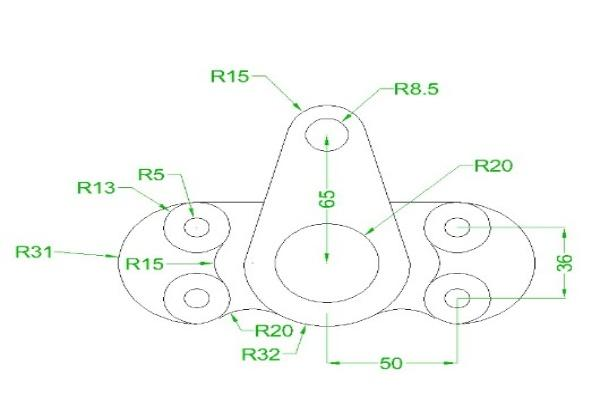dimensions: (391, 74, 443, 102), (470, 150, 518, 180), (255, 319, 295, 344), (209, 64, 251, 86), (74, 178, 120, 198), (12, 242, 56, 262), (123, 254, 164, 275), (240, 346, 283, 366), (132, 162, 168, 185), (315, 186, 338, 211), (376, 353, 405, 372), (554, 251, 575, 276)
